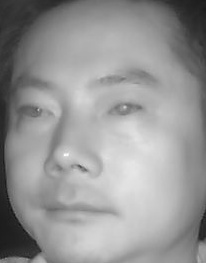eye: (16, 98, 55, 125), (106, 97, 147, 122)
mouth: (39, 185, 122, 234)
